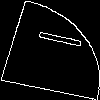I: (25, 25, 84, 50)
